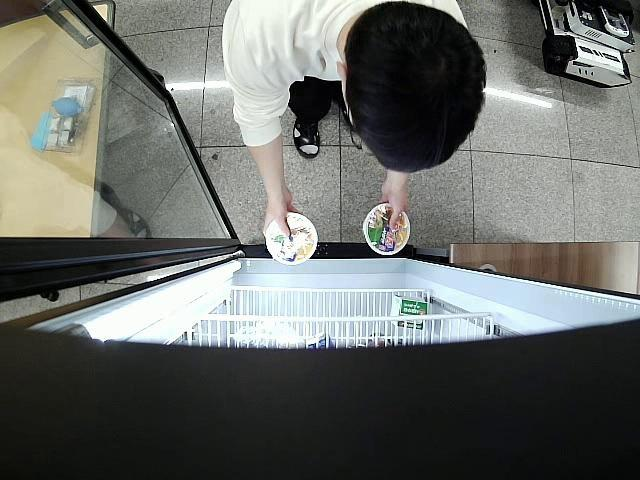09_yukGaeJang: (267, 212, 318, 265), (363, 204, 410, 255)
